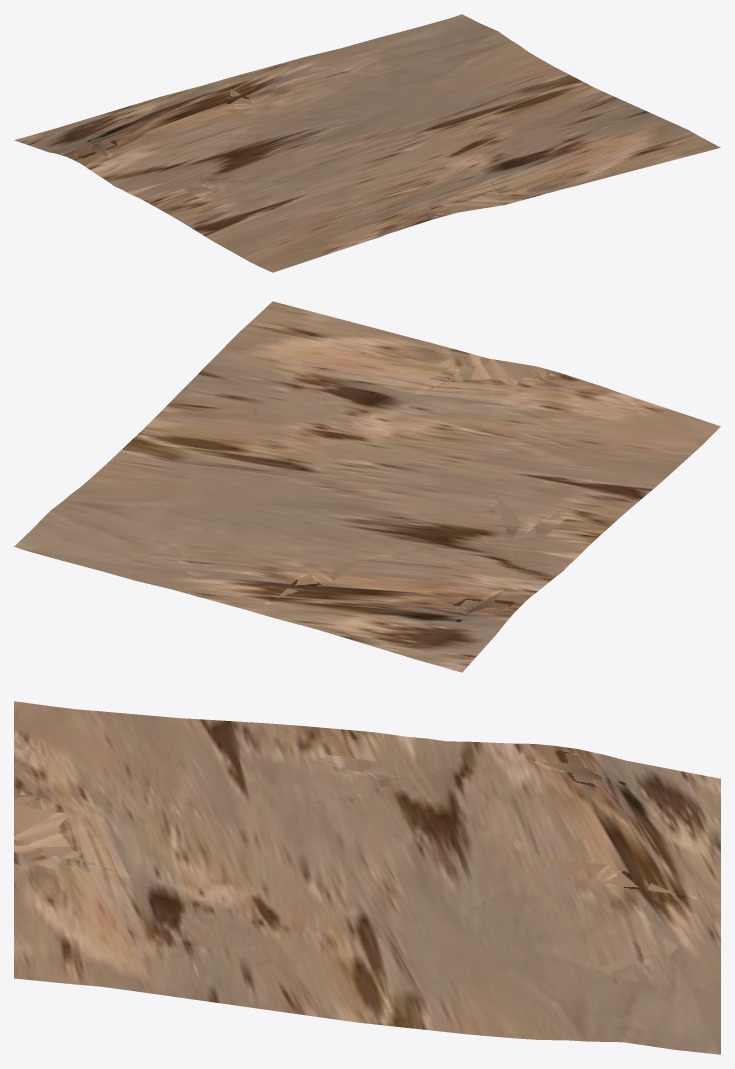
3 views of the same model, one above another, from view 1: azimuth 30°, elevation 25°; view 2: azimuth 150°, elevation 25°; view 3: azimuth 270°, elevation 25° (orthographic). The views are drawn at different scales.
Bounding box in the file's own units: 2.09 × 0.3233 × 2.09.
Materials: 2 (2 with a texture image).
